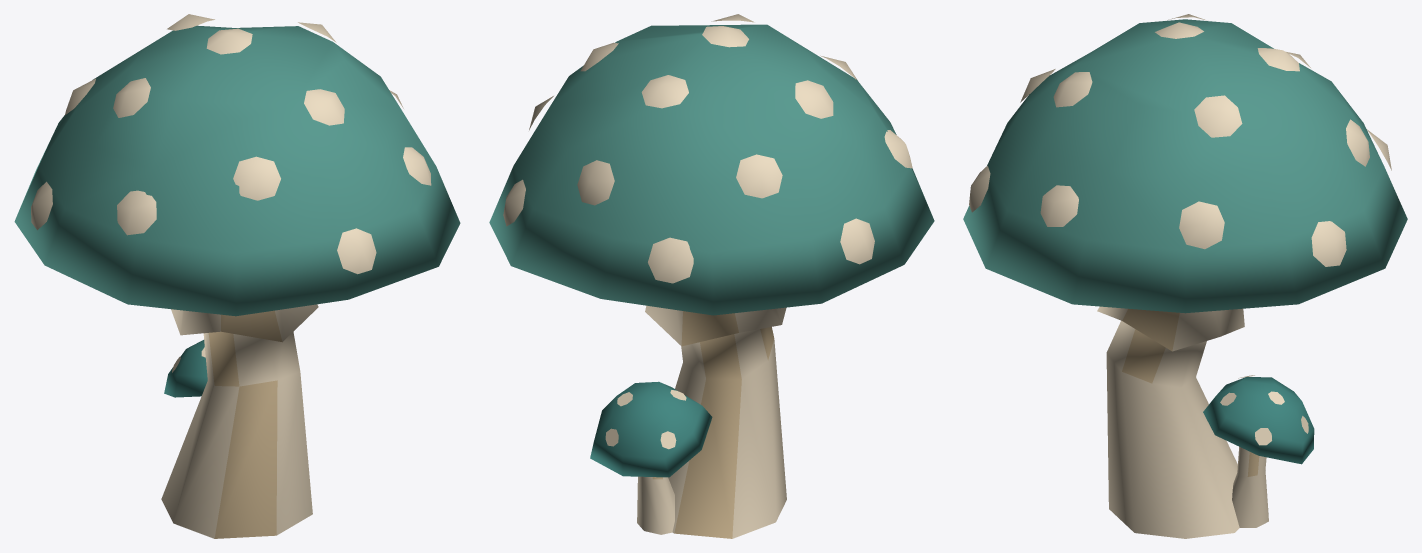
File: natureuniverse_shroomv2_shroomv2_original.glb
3 views of the same model, side by side, from view 1: azimuth 30°, elevation 25°; view 2: azimuth 150°, elevation 25°; view 3: azimuth 270°, elevation 25° (orthographic).
Visible parts, largest first — view 1: ShroomV2; view 2: ShroomV2; view 3: ShroomV2.
Part boxes in pixels (x1,y1,x2,y2): ShroomV2: [14, 14, 460, 538]; ShroomV2: [489, 14, 934, 538]; ShroomV2: [963, 14, 1407, 538].
Bounding box in the file's own units: 1.68 × 2 × 1.68.
Materials: 1 (1 with a texture image).
